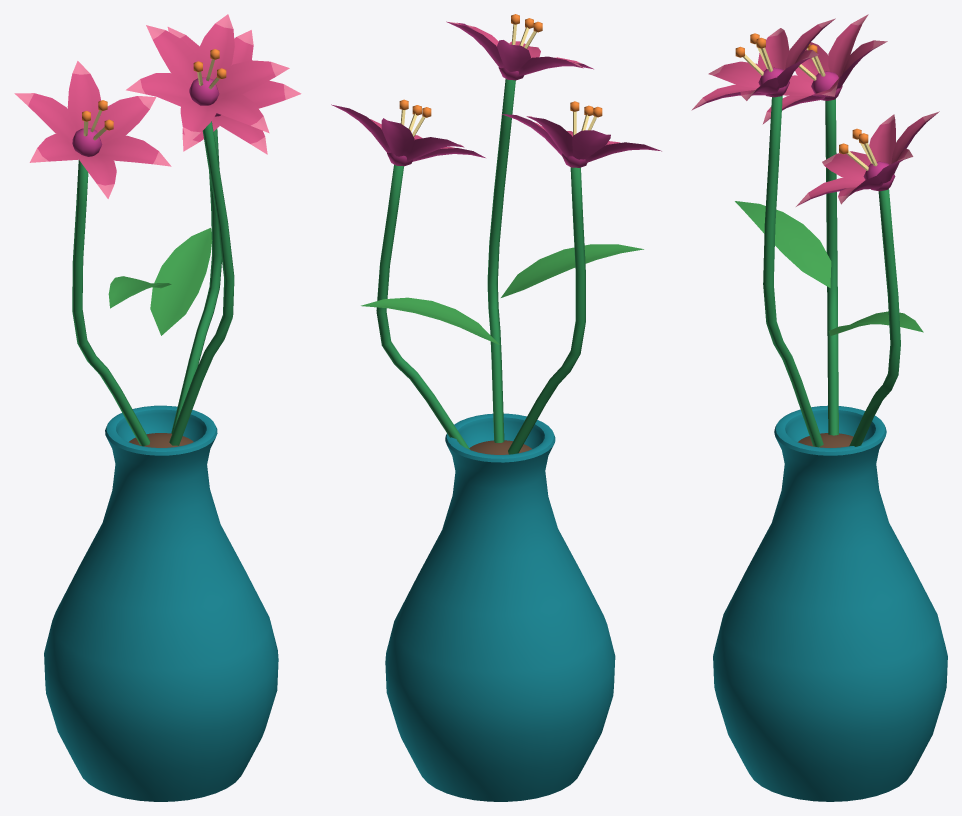
Rendered from planta_flores_vaso_turquesa.glb.
3 renders of one model, left to right at view 1: azimuth 30°, elevation 25°; view 2: azimuth 150°, elevation 25°; view 3: azimuth 270°, elevation 25°, orthographic. The views are drawn at different scales.
Parts seen in each view (by area): view 1: planta_flores_vaso_turquesa; view 2: planta_flores_vaso_turquesa; view 3: planta_flores_vaso_turquesa.
Part boxes in pixels (x1=…): planta_flores_vaso_turquesa: x1=14, y1=14, x2=301, y2=801; planta_flores_vaso_turquesa: x1=331, y1=14, x2=661, y2=801; planta_flores_vaso_turquesa: x1=691, y1=14, x2=947, y2=801.
Size of the model in its own units: 0.1931 by 0.4655 by 0.146.
1 material, 1 textured.
